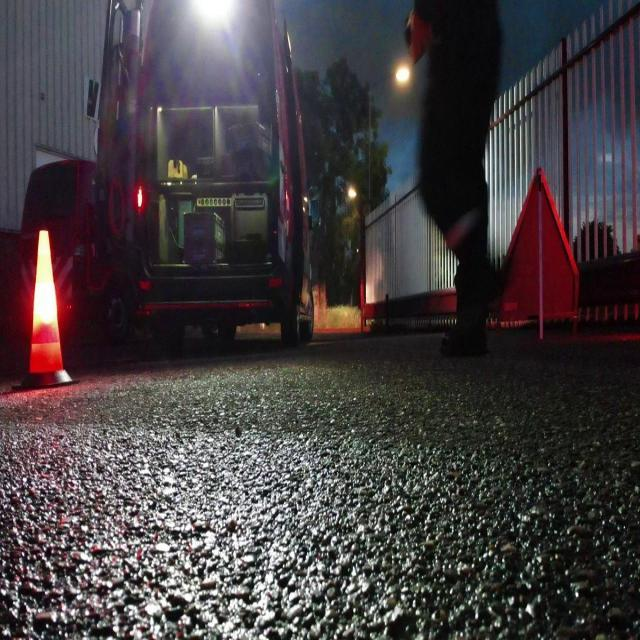Smoke: (278, 0, 639, 128)
